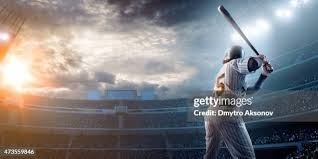baseball bat: (215, 3, 273, 73)
